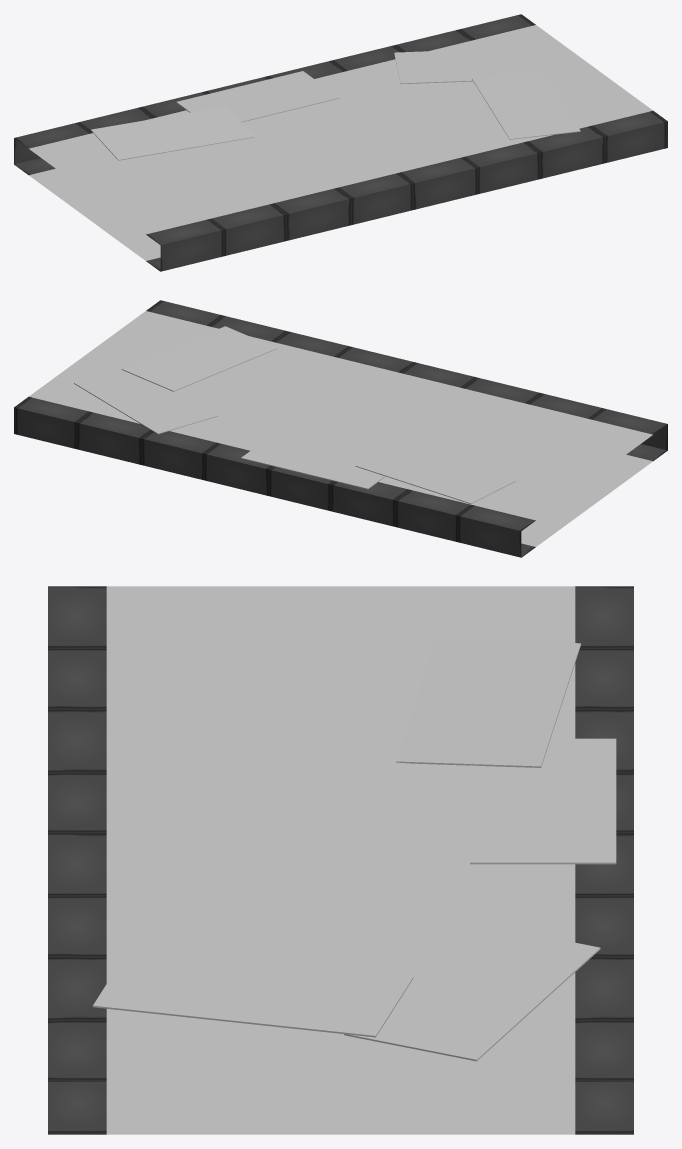
Rendered from SM_Platform2.fbx.
3 views of the same model, one above another, from view 1: azimuth 30°, elevation 25°; view 2: azimuth 150°, elevation 25°; view 3: azimuth 270°, elevation 25° (orthographic). The views are drawn at different scales.
Visible parts, largest first — view 1: pCube6; view 2: pCube6; view 3: pCube6.
Boxes of the visible parts, x1,y1,x2,y2 form: pCube6: [14, 14, 667, 271]; pCube6: [14, 300, 667, 557]; pCube6: [48, 586, 633, 1134].
Bounding box in the file's own units: 200 × 10.96 × 100.
